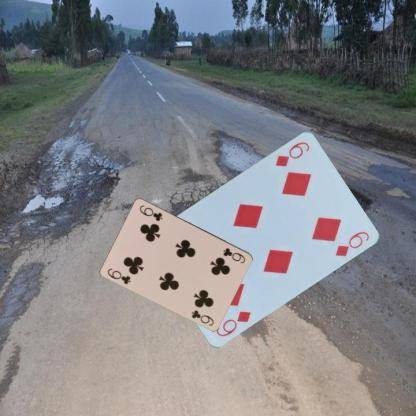6c: (220, 245, 246, 265), (105, 266, 132, 285)
6d: (213, 308, 252, 338), (273, 139, 311, 168)
